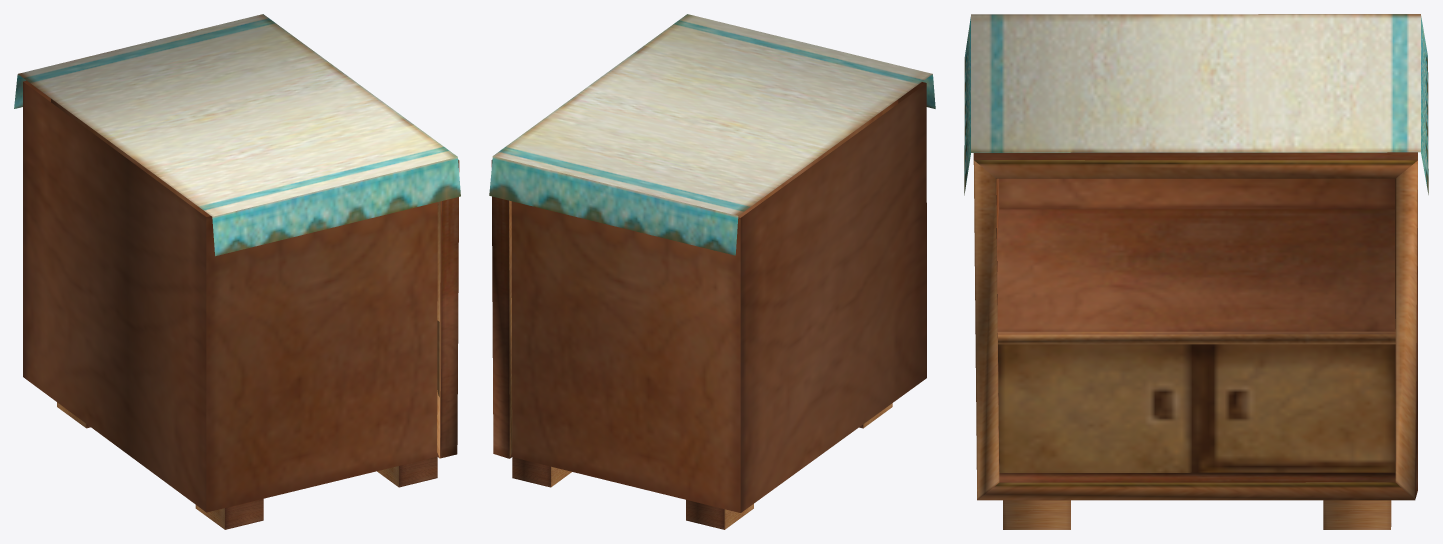
File: a_SWIchest03.glb
The picture shows the model from 3 angles, left to right: view 1: azimuth 30°, elevation 25°; view 2: azimuth 150°, elevation 25°; view 3: azimuth 270°, elevation 25°; orthographic projection. The views are drawn at different scales.
Parts seen in each view (by area): view 1: a_SWIchest03; view 2: a_SWIchest03; view 3: a_SWIchest03.
Boxes of the visible parts, left/top/right/bottom form: a_SWIchest03: left=14, top=14, right=460, bottom=529; a_SWIchest03: left=489, top=14, right=935, bottom=529; a_SWIchest03: left=964, top=14, right=1428, bottom=529.
Size of the model in its own units: 0.642 by 0.8143 by 0.8985.
1 material, 1 textured.
